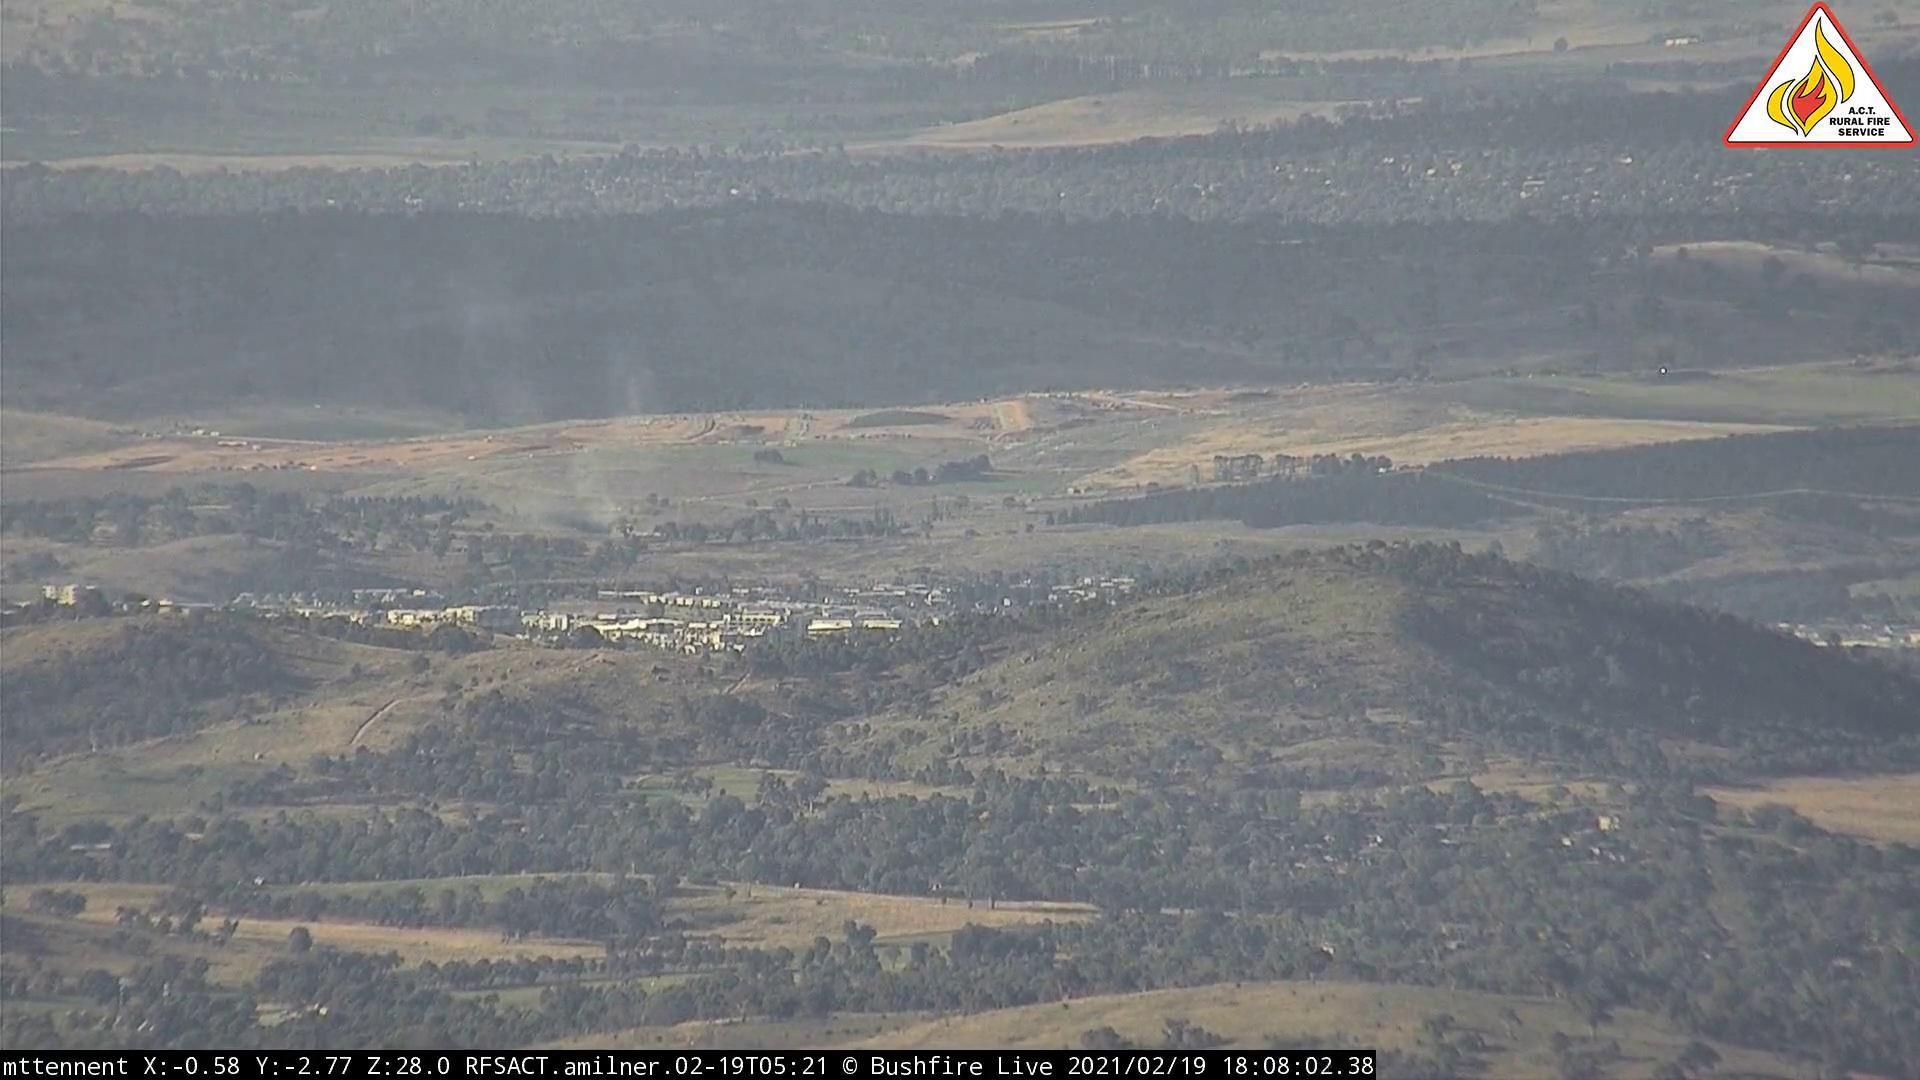instance_salient_object: (572, 459, 640, 553)
